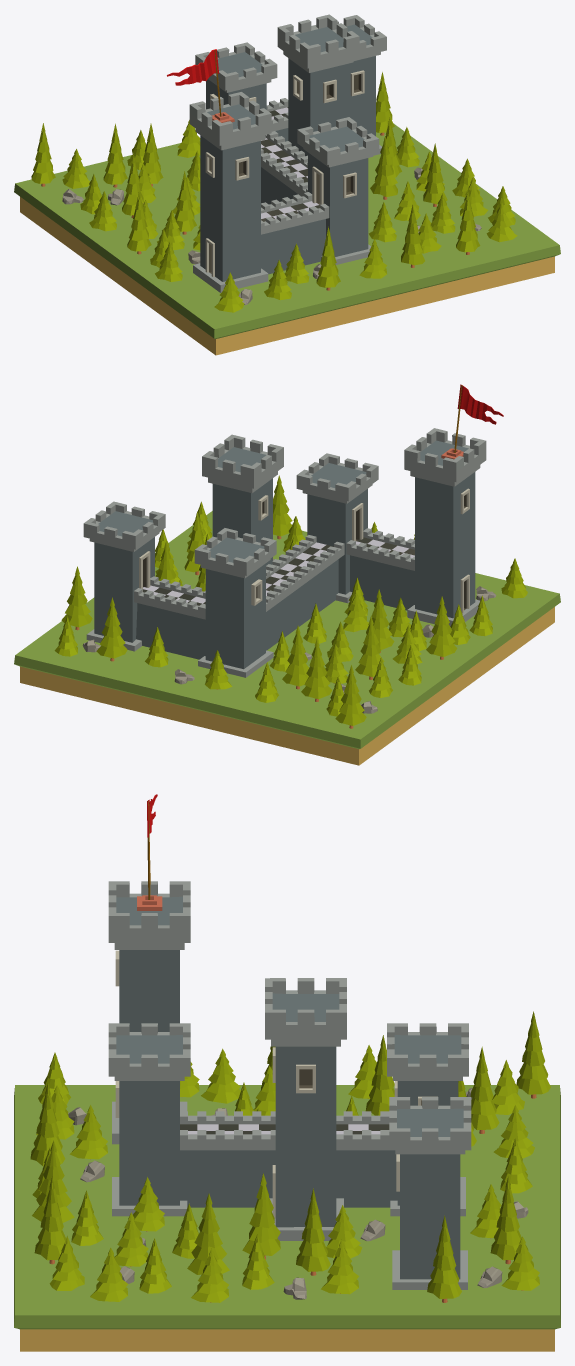
The picture shows the model from 3 angles, top to bottom: view 1: azimuth 30°, elevation 25°; view 2: azimuth 150°, elevation 25°; view 3: azimuth 270°, elevation 25°; orthographic projection. The views are drawn at different scales.
Visible parts, largest first — view 1: Cube.001_1, Cube_2, EA04_Prop_Flag_01a_LOD0_109, Cylinder.060_63, Cylinder.076_79, Cylinder.064_67, Cylinder.078_81, Cylinder.084_87, Cylinder.068_71, Cylinder.062_65, Cylinder.086_89, Cylinder.070_73 (+22 smaller); view 2: Cube.001_1, Cube_2, Cylinder.076_79, Cylinder.082_85, Cylinder.068_71, Cylinder.078_81, Cylinder.074_77, Cylinder.080_83, Cylinder.066_69, EA04_Prop_Flag_01a_LOD0_109, Cylinder.062_65, Cylinder.070_73 (+17 smaller); view 3: Cube.001_1, Cube_2, Cylinder.072_75, Cylinder.074_77, Cylinder.078_81, Cylinder.060_63, Cylinder.086_89, Cylinder.062_65, Cylinder.076_79, Cylinder.082_85, Cylinder.064_67, Cylinder.084_87 (+23 smaller).
Part boxes in pixels (x1=…): Cube.001_1: x1=189, y1=14, x2=386, y2=292; Cube_2: x1=14, y1=123, x2=560, y2=355; EA04_Prop_Flag_01a_LOD0_109: x1=167, y1=49, x2=221, y2=116; Cylinder.060_63: x1=370, y1=136, x2=397, y2=196; Cylinder.076_79: x1=103, y1=123, x2=127, y2=184; Cylinder.064_67: x1=316, y1=226, x2=340, y2=287; Cylinder.078_81: x1=31, y1=123, x2=55, y2=183; Cylinder.084_87: x1=401, y1=204, x2=424, y2=265; Cylinder.068_71: x1=127, y1=191, x2=151, y2=251; Cylinder.062_65: x1=456, y1=191, x2=480, y2=252; Cylinder.086_89: x1=423, y1=143, x2=447, y2=204; Cylinder.070_73: x1=174, y1=171, x2=196, y2=231; Cube.001_1: x1=83, y1=428, x2=486, y2=677; Cube_2: x1=14, y1=511, x2=560, y2=765; Cylinder.076_79: x1=301, y1=638, x2=332, y2=699; Cylinder.082_85: x1=96, y1=597, x2=127, y2=658; Cylinder.068_71: x1=426, y1=596, x2=457, y2=656; Cylinder.078_81: x1=335, y1=665, x2=366, y2=725; Cylinder.074_77: x1=61, y1=566, x2=92, y2=627; Cylinder.080_83: x1=282, y1=625, x2=308, y2=686; Cylinder.066_69: x1=355, y1=616, x2=386, y2=676; EA04_Prop_Flag_01a_LOD0_109: x1=454, y1=384, x2=503, y2=452; Cylinder.062_65: x1=273, y1=475, x2=292, y2=536; Cylinder.070_73: x1=363, y1=589, x2=394, y2=649; Cube.001_1: x1=108, y1=881, x2=471, y2=1289; Cube_2: x1=14, y1=1085, x2=560, y2=1351; Cylinder.072_75: x1=296, y1=1188, x2=330, y2=1271; Cylinder.074_77: x1=427, y1=1215, x2=461, y2=1298; Cylinder.078_81: x1=516, y1=1011, x2=550, y2=1094; Cylinder.060_63: x1=242, y1=1173, x2=280, y2=1255; Cylinder.086_89: x1=187, y1=1193, x2=229, y2=1274; Cylinder.062_65: x1=34, y1=1177, x2=65, y2=1260; Cylinder.076_79: x1=470, y1=1046, x2=499, y2=1130; Cylinder.082_85: x1=490, y1=1177, x2=521, y2=1260; Cylinder.064_67: x1=30, y1=1083, x2=65, y2=1166; Cylinder.084_87: x1=32, y1=1140, x2=74, y2=1222.
Size of the model in its own units: 10.08 by 7.25 by 10.08.
Materials: 9 (6 with a texture image).
